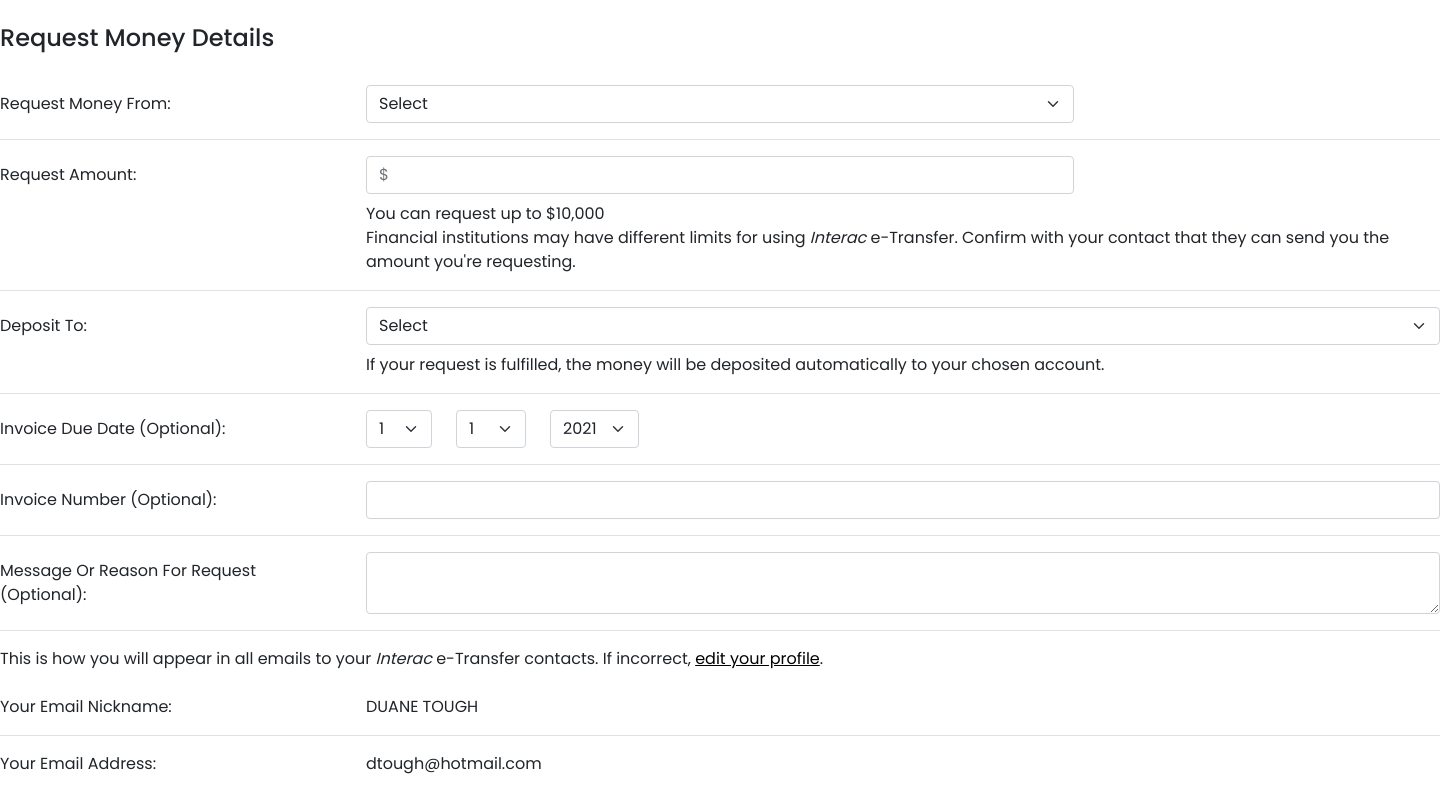
Test: RequestDetail Component › should render Email Form  when user Has an Email
Select "Jon Doe" in the dropdown in the row of "Request Money From:": (720, 104) [366,85,1074,123]
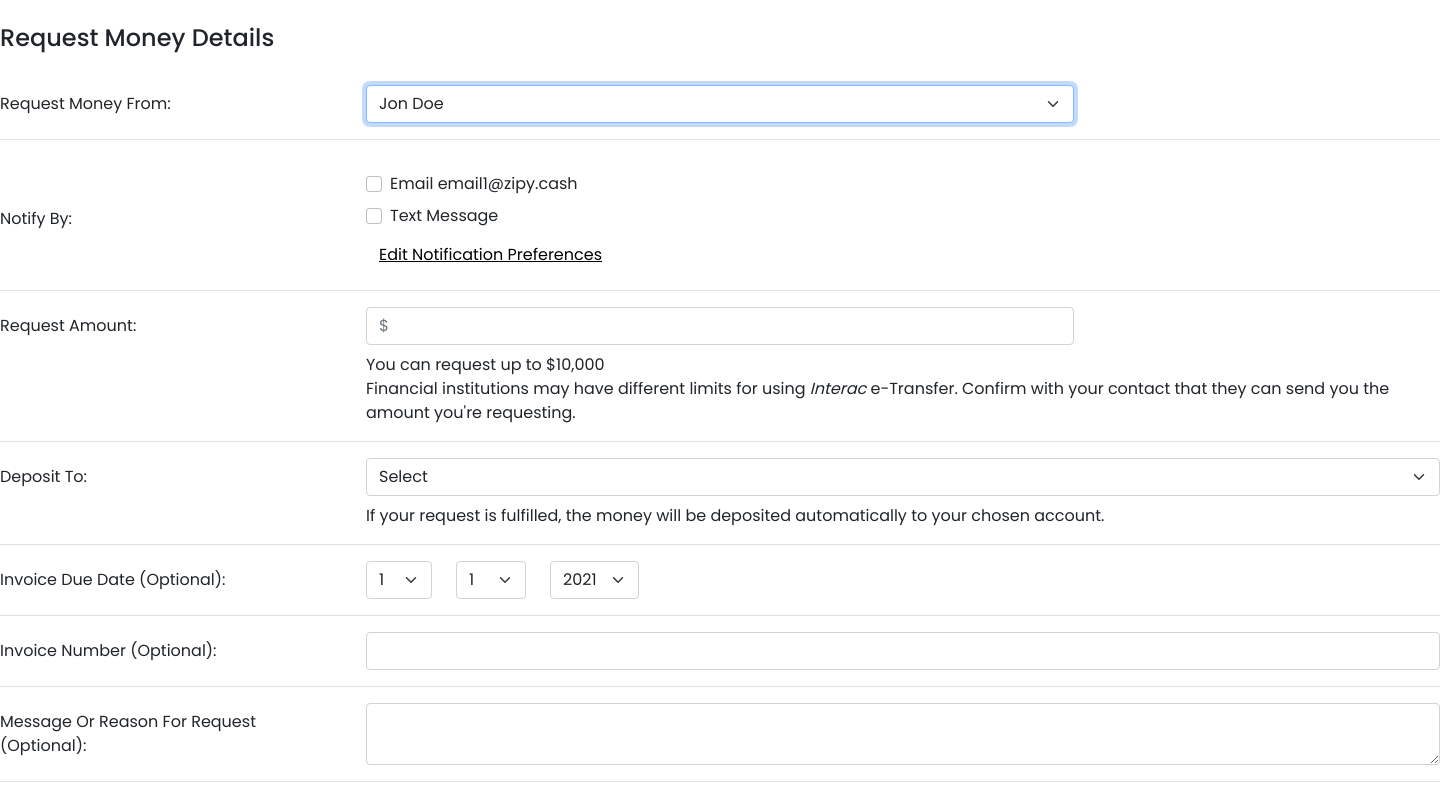
Check: the text "Notify By:" is shown, box [0,207,72,230]
